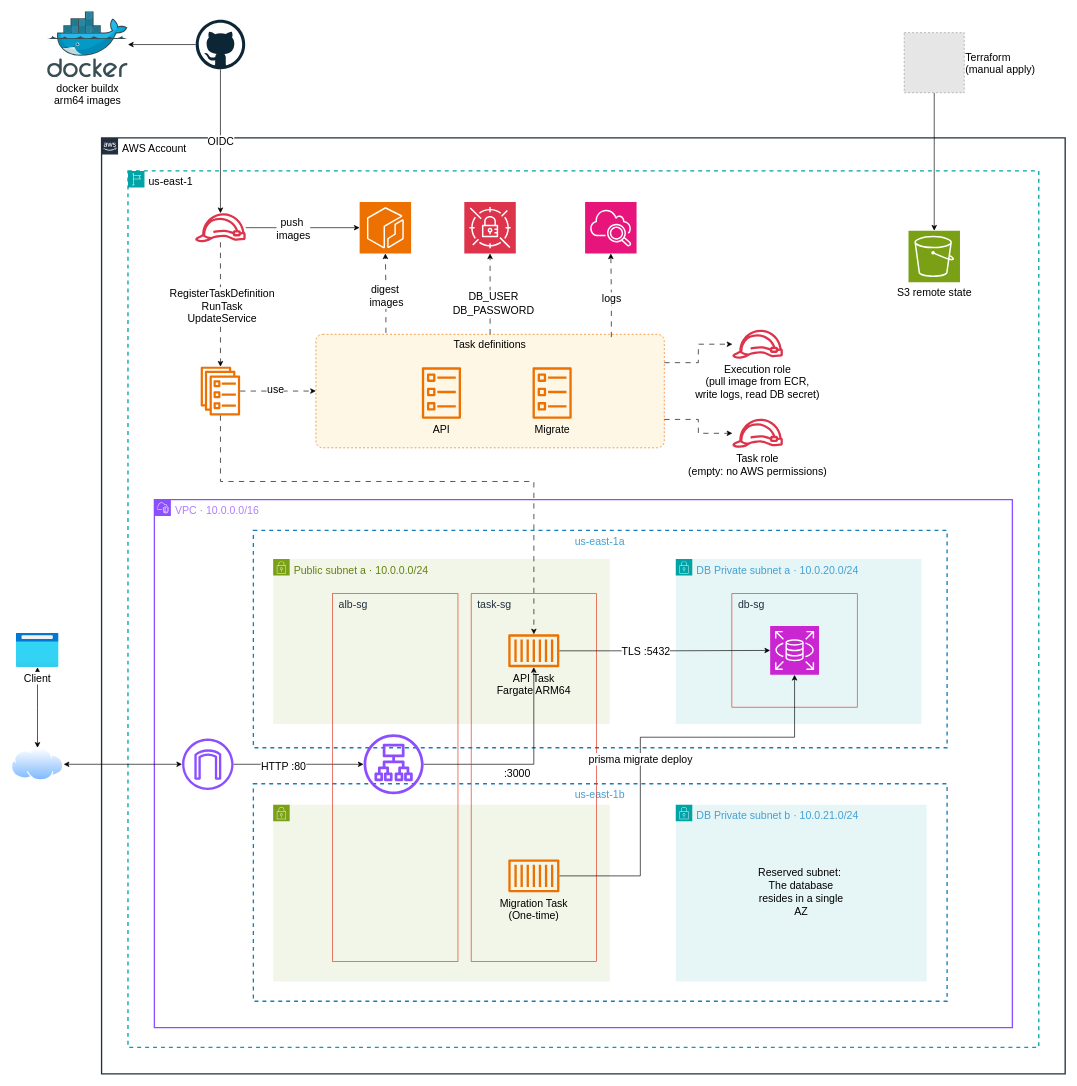
Image size: 1077x1086. Some labels were removed from this diagram. Grey dashed boxes stand in for pictures. Here are the shapes that lost their labels. From the top down, the centre of each, then its label:
At (220,44): "GitHub Actions (CI/CD)".
At (220,227): "OIDC Role".
At (385,227): "ECR".
At (490,227): "Secrets Manager DB credentials".
At (610,227): "CloudWatch Logs".
At (220,390): "ECS Service".
At (794,650): "RDS PostgreSQL 18".
At (37,763): "Internet".
At (207,764): "Internet Gateway".
At (393,764): "ALB 1 resource, 2 AZs".
At (441,892): "Public subnet b · 10.0.1.0/24".
